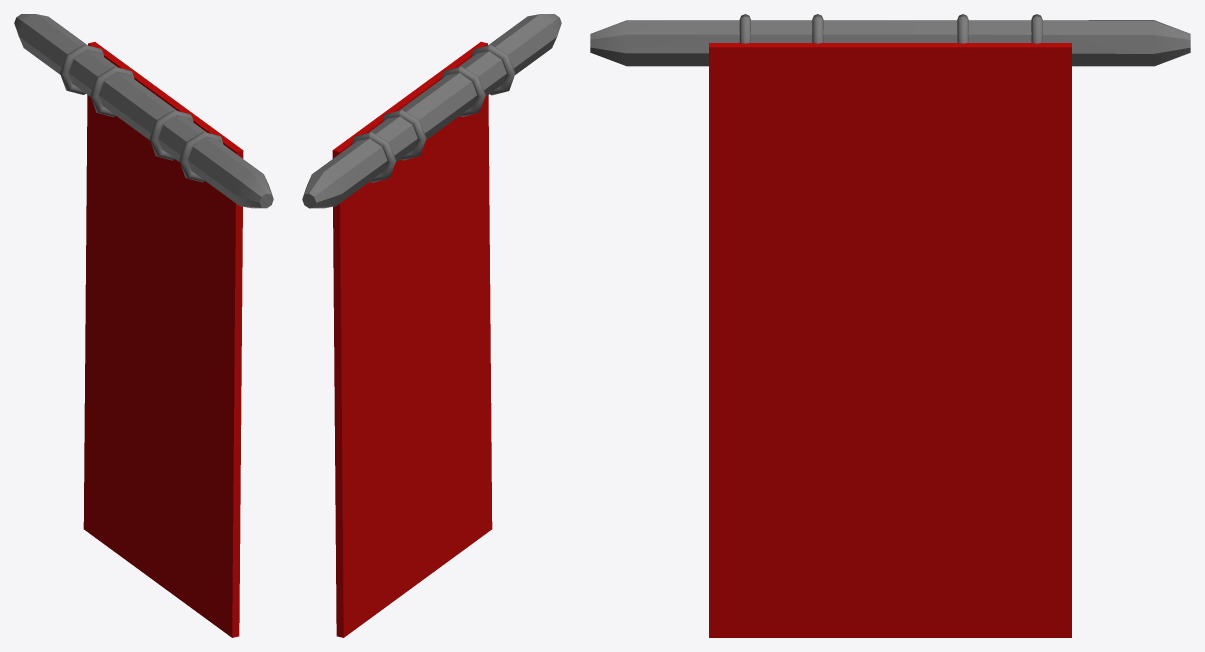
The model's file is Banner_float.fbx.
3 views of the same model, side by side, from view 1: azimuth 30°, elevation 25°; view 2: azimuth 150°, elevation 25°; view 3: azimuth 270°, elevation 25° (orthographic). The views are drawn at different scales.
Visible parts, largest first — view 1: pPlane2, pCylinder1; view 2: pPlane2, pCylinder1; view 3: pPlane2, pCylinder1.
Part boxes in pixels (x1=…): pPlane2: x1=60, y1=42, x2=243, y2=637; pCylinder1: x1=14, y1=14, x2=273, y2=208; pPlane2: x1=332, y1=41, x2=515, y2=637; pCylinder1: x1=302, y1=14, x2=561, y2=208; pPlane2: x1=709, y1=14, x2=1071, y2=637; pCylinder1: x1=590, y1=20, x2=1190, y2=66.
Size of the model in its own units: 1.91 by 18.48 by 16.5.
